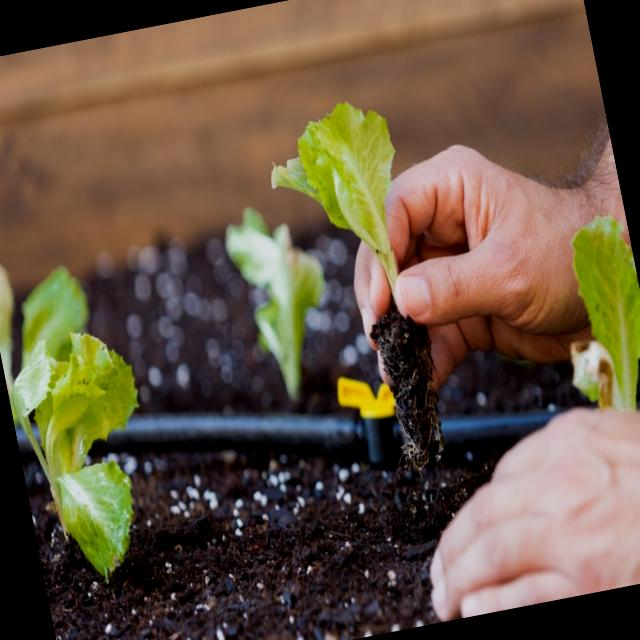verde: (14, 333, 139, 581), (272, 102, 398, 291)
